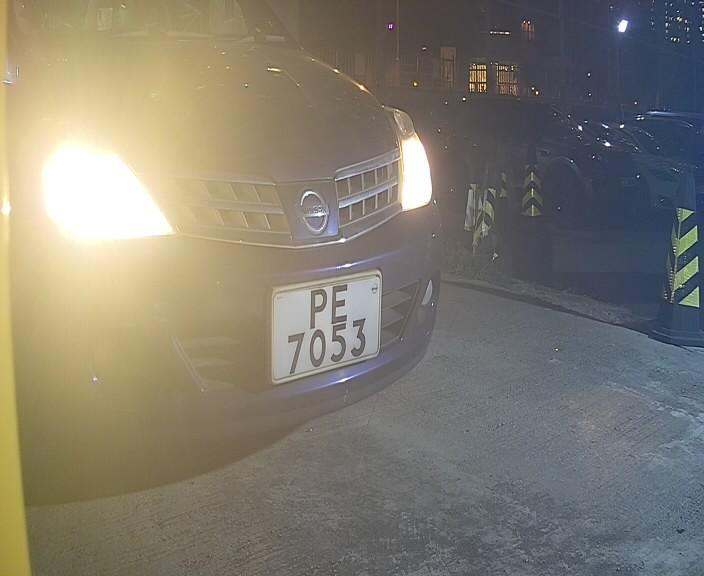privatecar: (16, 6, 466, 471)
